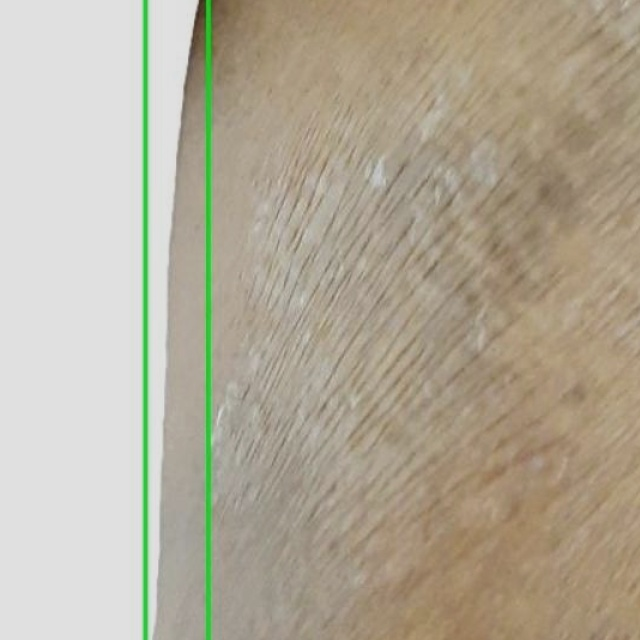Tinea Corporis: (145, 0, 639, 639), (0, 0, 208, 639)
